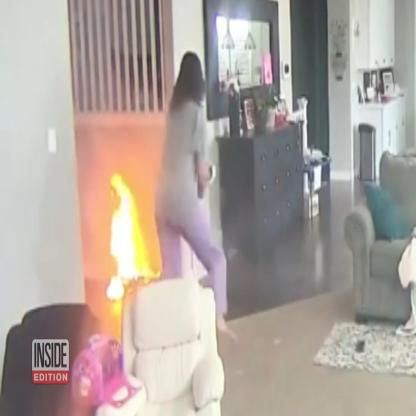fire: (107, 174, 160, 298)
